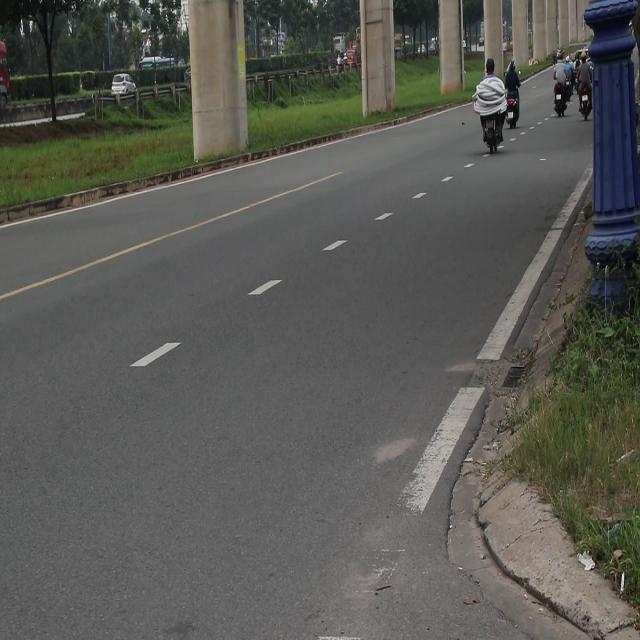car: (112, 75, 137, 99)
motorbike: (481, 96, 504, 156), (548, 81, 569, 125), (568, 65, 578, 112), (579, 92, 592, 126), (505, 93, 518, 126)
truck: (0, 36, 18, 118)
